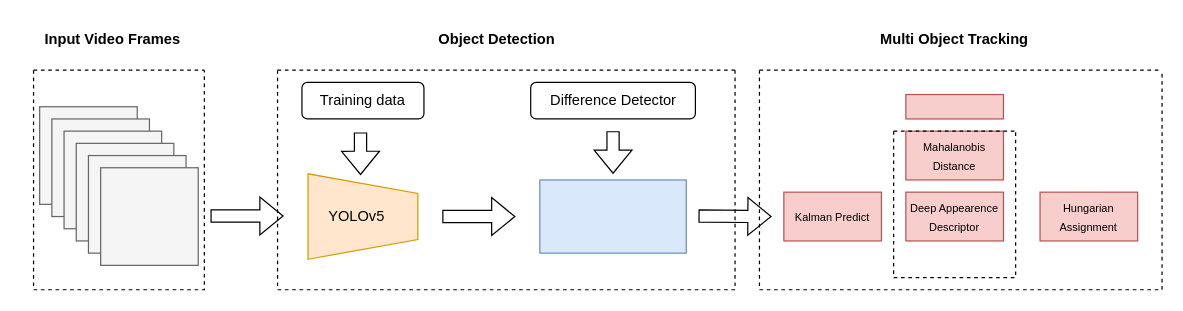
The diagram is 1183 pixels wide and 311 high, and some of its shapes have lost their labels. The shapes that lost their labels are listed below. From the top down, each one's centre as x and y in pixels, then its label:
(954,106): DeepSORT
(612,216): Detection
(954,204): Association Metrics
